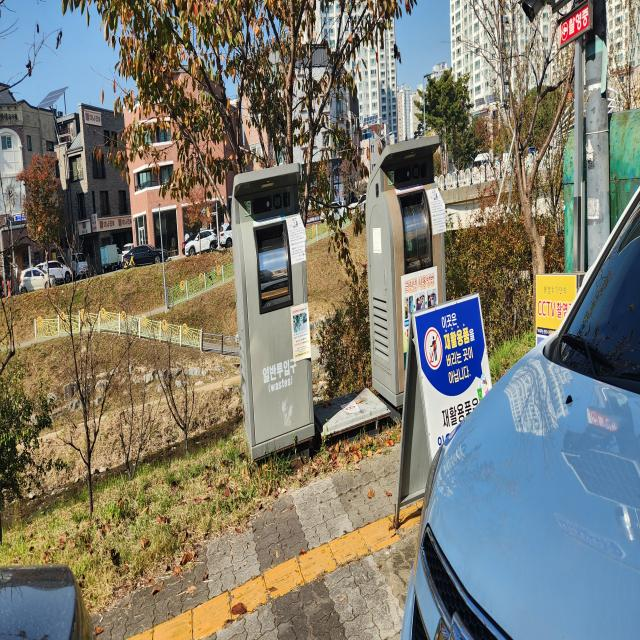CleanNet: (226, 149, 317, 464), (367, 135, 451, 408)
